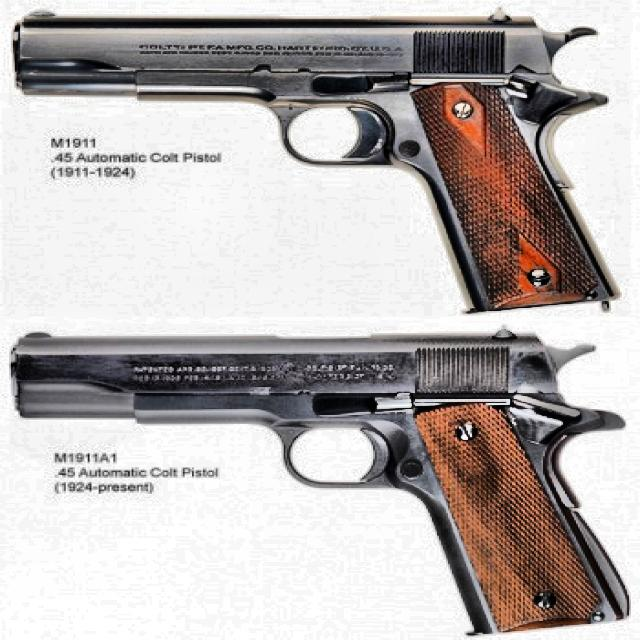Colt m1911: (7, 324, 631, 636), (9, 6, 622, 314)
